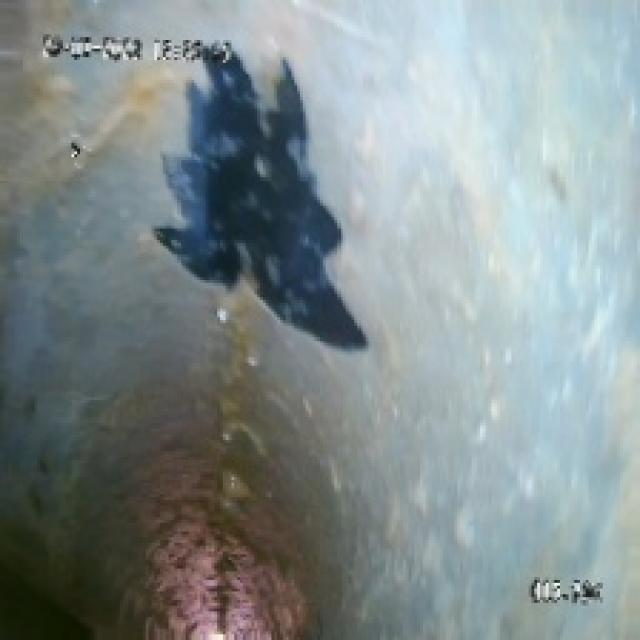pipe_surface_damage: (146, 29, 394, 354)
